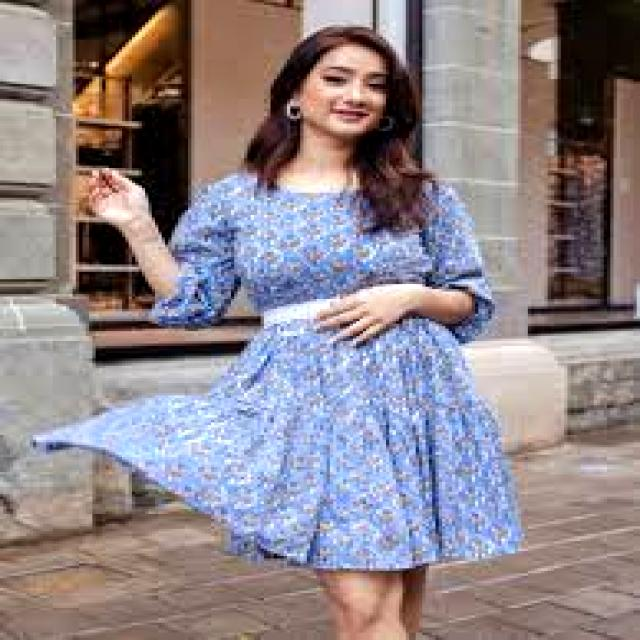dress: (33, 173, 521, 570)
face: (294, 45, 389, 140)
